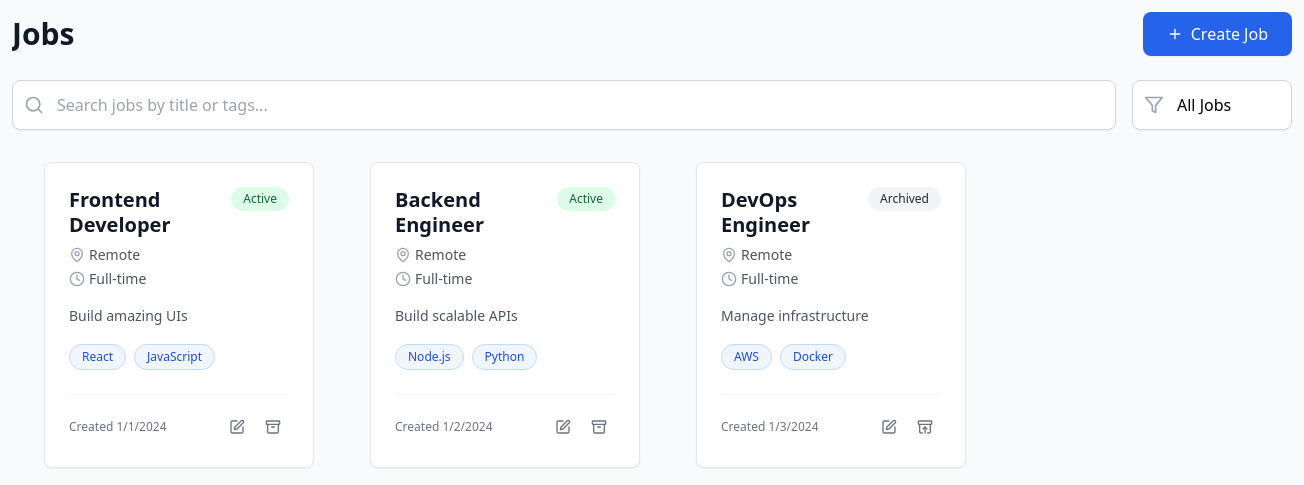
Test: JobsPage › filters jobs by search term
Expected: the link "Frontend Developer" is shown, [69,186,170,238]
Type "Frontend" into the field with placeholder "Search jobs by title or tags..." at (564, 105), box [12,80,1116,130]
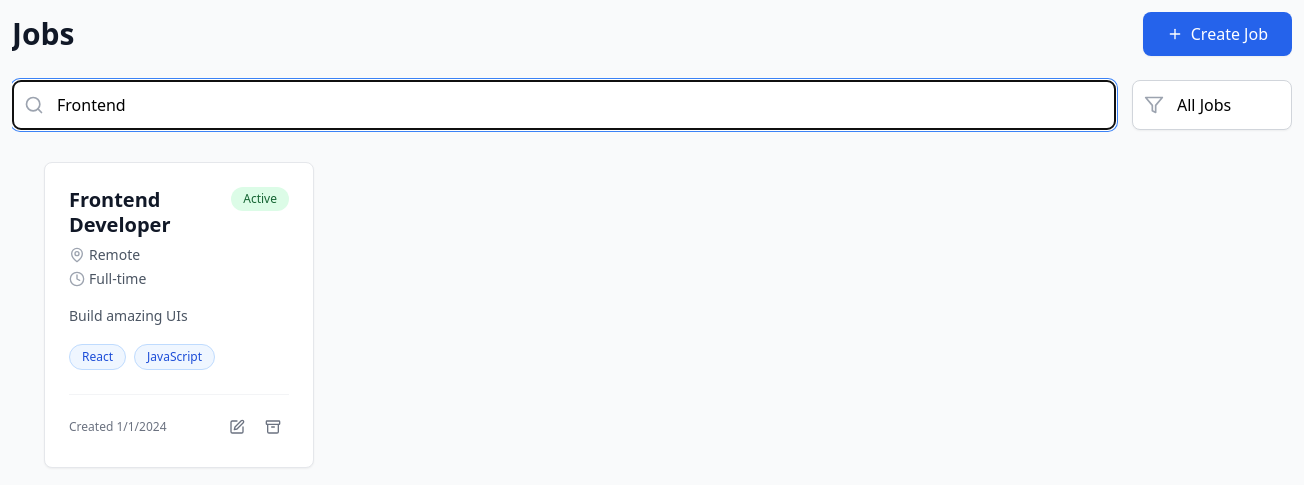
Expected: the link "Frontend Developer" is shown, [69,186,170,238]
Now the link "Backend Engineer" is gone
